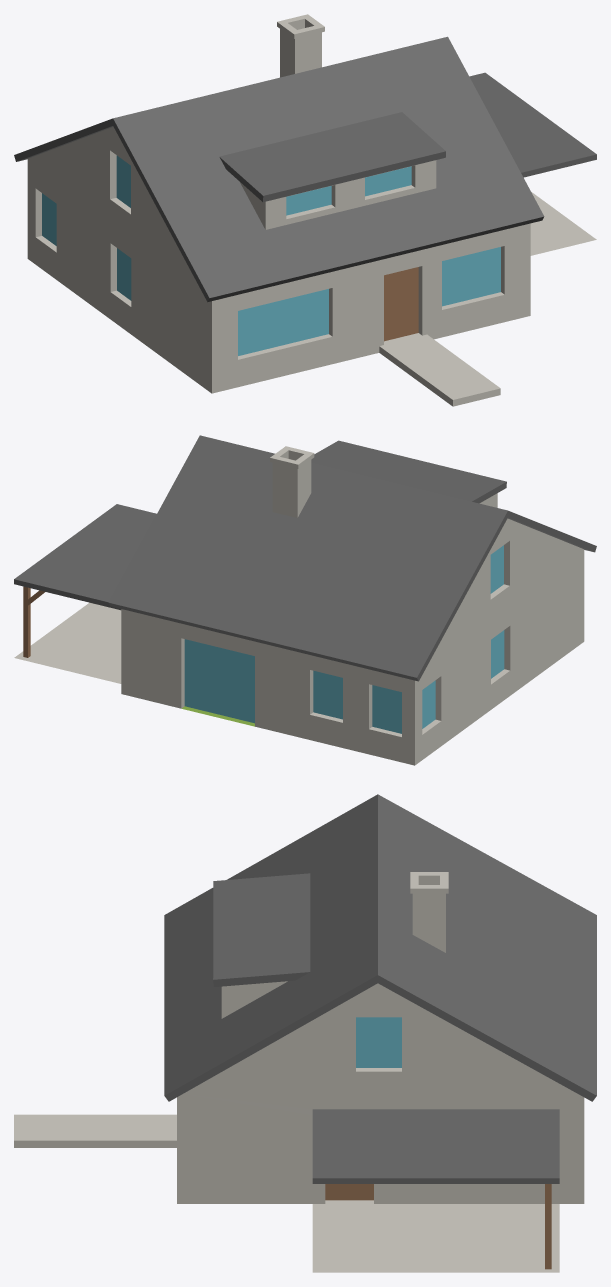
The model's file is house-small-carport-left.glb.
3 renders of one model, top to bottom at view 1: azimuth 30°, elevation 25°; view 2: azimuth 150°, elevation 25°; view 3: azimuth 270°, elevation 25°, orthographic. The views are drawn at different scales.
Visible parts, largest first — view 1: house-small-carport-left_Cube.006; view 2: house-small-carport-left_Cube.006; view 3: house-small-carport-left_Cube.006.
Part boxes in pixels (x1,y1,x2,y2): house-small-carport-left_Cube.006: (14,14,596,406); house-small-carport-left_Cube.006: (14,435,596,765); house-small-carport-left_Cube.006: (14,794,596,1272).
Bounding box in the file's own units: 14.25 × 7.08 × 14.31.
Materials: 1 (1 with a texture image).
